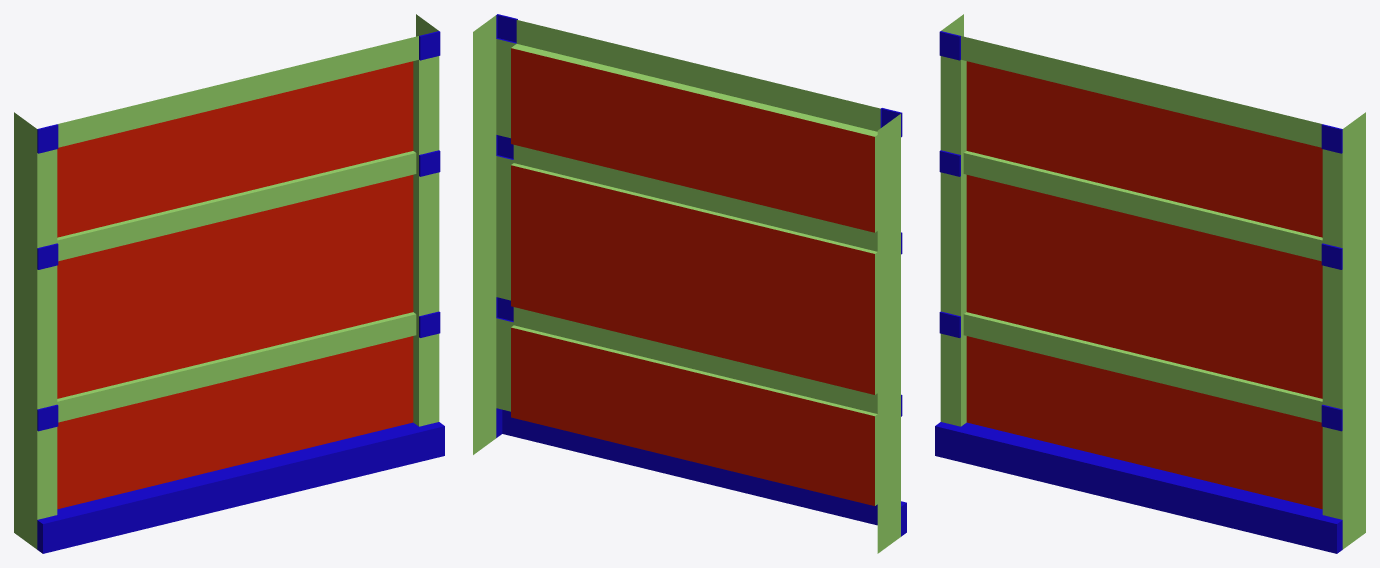
The model's file is HallWall.fbx.
3 views of the same model, side by side, from view 1: azimuth 30°, elevation 25°; view 2: azimuth 150°, elevation 25°; view 3: azimuth 330°, elevation 25° (orthographic).
Parts seen in each view (by area): view 1: BasicWall; view 2: BasicWall; view 3: BasicWall.
Part boxes in pixels (x1,y1,x2,y2): BasicWall: [14, 14, 444, 553]; BasicWall: [473, 14, 906, 553]; BasicWall: [935, 14, 1365, 553].
Size of the model in its own units: 4 by 4 by 0.5.
